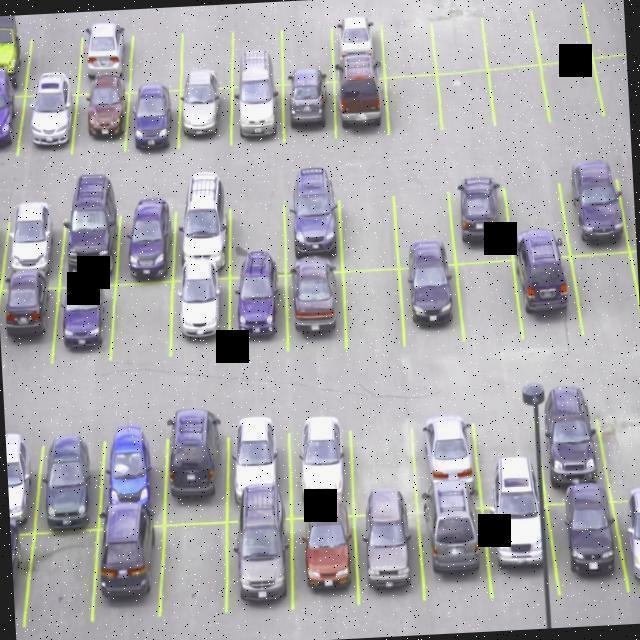space-empty: (27, 530, 99, 624), (164, 516, 232, 610), (475, 416, 545, 501), (500, 175, 570, 257), (351, 430, 420, 512), (339, 188, 397, 277), (460, 262, 519, 348), (340, 267, 404, 346), (394, 182, 455, 263), (109, 280, 173, 357), (431, 2, 492, 81), (580, 255, 638, 334), (229, 197, 288, 273), (480, 1, 539, 73), (437, 72, 496, 142), (384, 75, 441, 145), (383, 11, 437, 84), (535, 0, 592, 68), (542, 60, 599, 128), (491, 69, 548, 136), (26, 32, 83, 96), (603, 404, 640, 496), (126, 36, 186, 89), (234, 29, 286, 88), (183, 33, 235, 89), (286, 23, 331, 84)
space-occupied: (543, 497, 631, 596), (290, 511, 363, 616), (91, 518, 167, 617), (420, 503, 496, 601), (480, 500, 558, 594), (168, 409, 235, 517), (557, 164, 635, 256), (102, 424, 172, 525), (511, 249, 581, 342), (229, 419, 291, 523), (356, 508, 424, 602), (446, 177, 518, 265), (229, 515, 292, 615), (290, 423, 354, 520), (39, 429, 101, 529), (417, 413, 483, 506), (224, 268, 292, 355), (542, 408, 605, 499), (170, 268, 235, 352), (401, 261, 461, 349), (0, 281, 62, 363), (287, 266, 348, 349), (284, 188, 343, 271), (57, 282, 118, 361), (65, 206, 121, 287), (3, 207, 61, 283), (230, 82, 289, 155), (123, 88, 185, 156), (119, 203, 173, 279), (282, 77, 337, 145), (82, 24, 134, 95), (179, 90, 235, 155), (177, 203, 229, 272), (328, 15, 382, 79), (6, 431, 40, 532), (73, 92, 128, 149), (335, 79, 384, 142), (22, 97, 77, 150), (11, 522, 29, 624), (0, 86, 26, 155), (0, 29, 26, 89)
